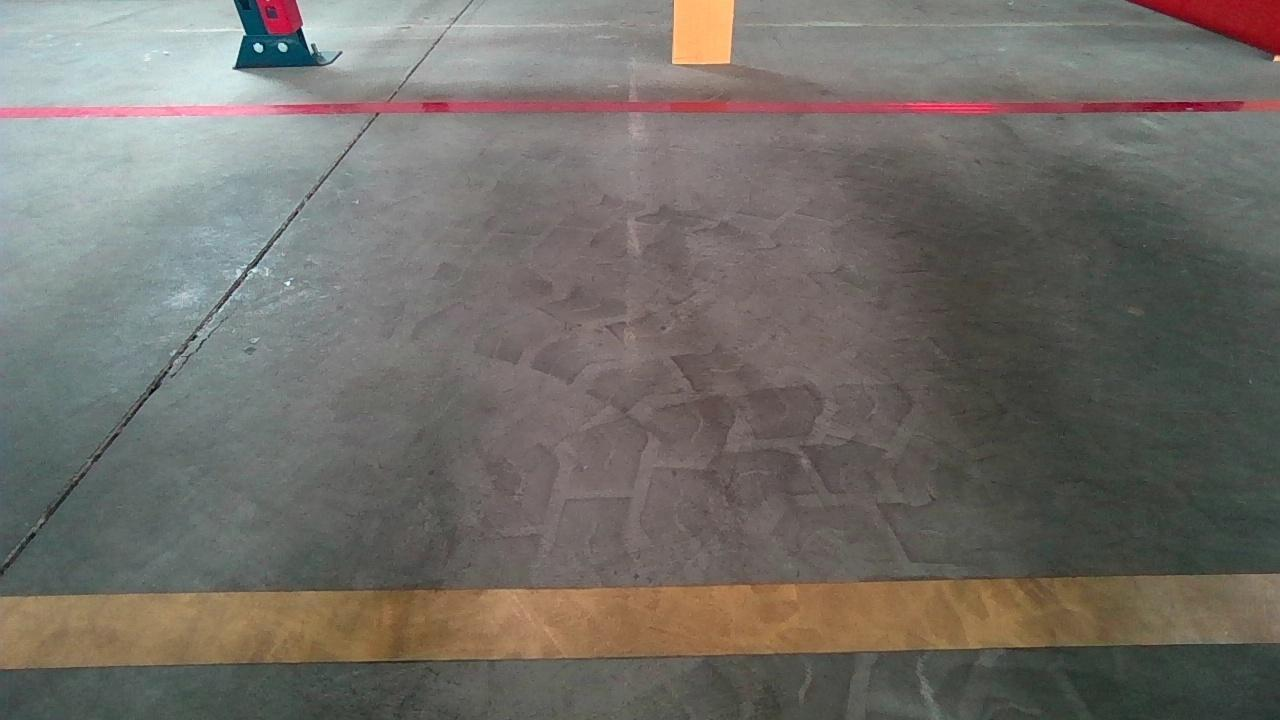orange_strip: (673, 0, 735, 64)
red_line: (8, 94, 1274, 119)
yellow_line: (2, 570, 1267, 673)
